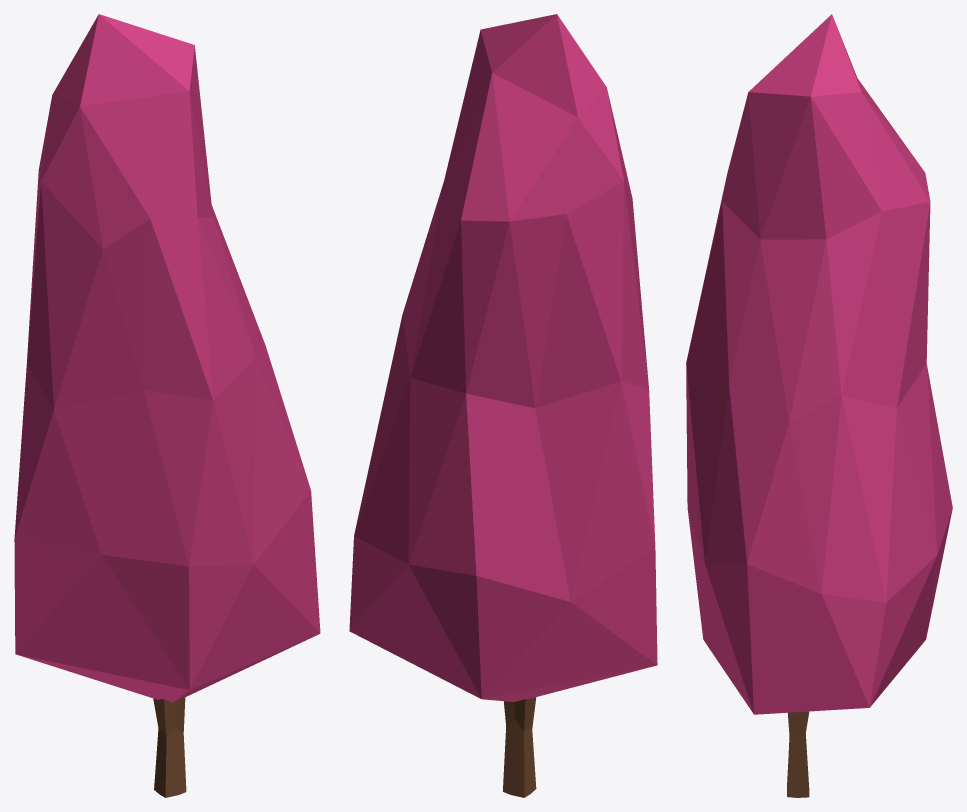
File: Tree_4_Pink.fbx
3 views of the same model, side by side, from view 1: azimuth 30°, elevation 25°; view 2: azimuth 150°, elevation 25°; view 3: azimuth 270°, elevation 25° (orthographic). The views are drawn at different scales.
Parts seen in each view (by area): view 1: Tree_4_Pink_Part_1, Tree_4_Pink_Part_2; view 2: Tree_4_Pink_Part_1, Tree_4_Pink_Part_2; view 3: Tree_4_Pink_Part_1, Tree_4_Pink_Part_2.
Part boxes in pixels (box(x1,y1,x2,y2)): Tree_4_Pink_Part_1: box(14, 14, 320, 702); Tree_4_Pink_Part_2: box(153, 697, 186, 797); Tree_4_Pink_Part_1: box(349, 14, 657, 701); Tree_4_Pink_Part_2: box(503, 697, 536, 797); Tree_4_Pink_Part_1: box(686, 14, 952, 714); Tree_4_Pink_Part_2: box(787, 711, 809, 797).
Size of the model in its own units: 295 by 795 by 254.
